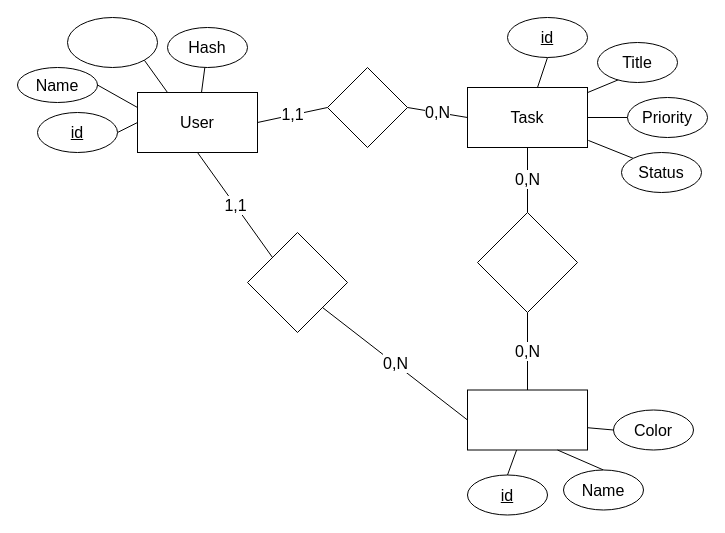
Some shapes in this 725 by 533 pixel diagram are drawn without their labels. The shapes that lost their labels are listed below. From the top down, each one's box as (x1, y1, x2, y2) in pixels, then its label:
(66, 16, 158, 68): Username
(326, 66, 408, 148): Has
(246, 232, 348, 332): Creates a
(476, 212, 578, 312): Belongs to
(466, 389, 588, 450): Category
